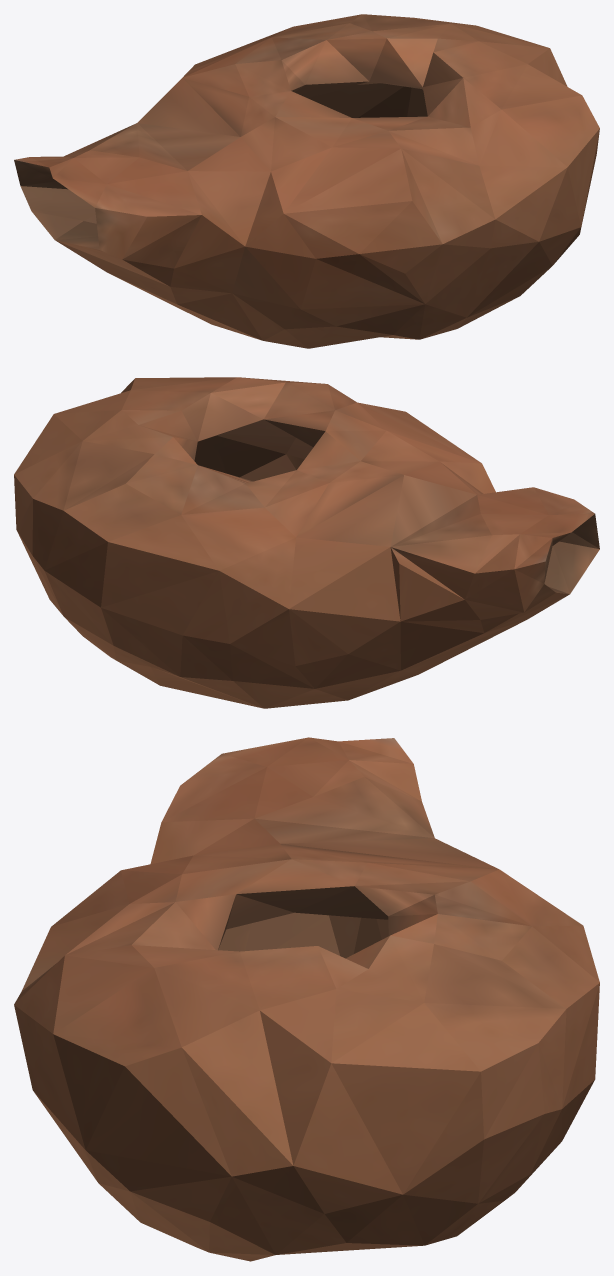
Rendered from oil_lamp.glb.
3 views of the same model, one above another, from view 1: azimuth 30°, elevation 25°; view 2: azimuth 150°, elevation 25°; view 3: azimuth 270°, elevation 25° (orthographic). The views are drawn at different scales.
Parts seen in each view (by area): view 1: lp.obj; view 2: lp.obj; view 3: lp.obj.
Part boxes in pixels (<box>): lp.obj: <box>14,14,599,348</box>; lp.obj: <box>14,377,599,708</box>; lp.obj: <box>14,737,599,1261</box>.
Size of the model in its own units: 0.0976 by 0.0402 by 0.0704.
1 material, 1 textured.
